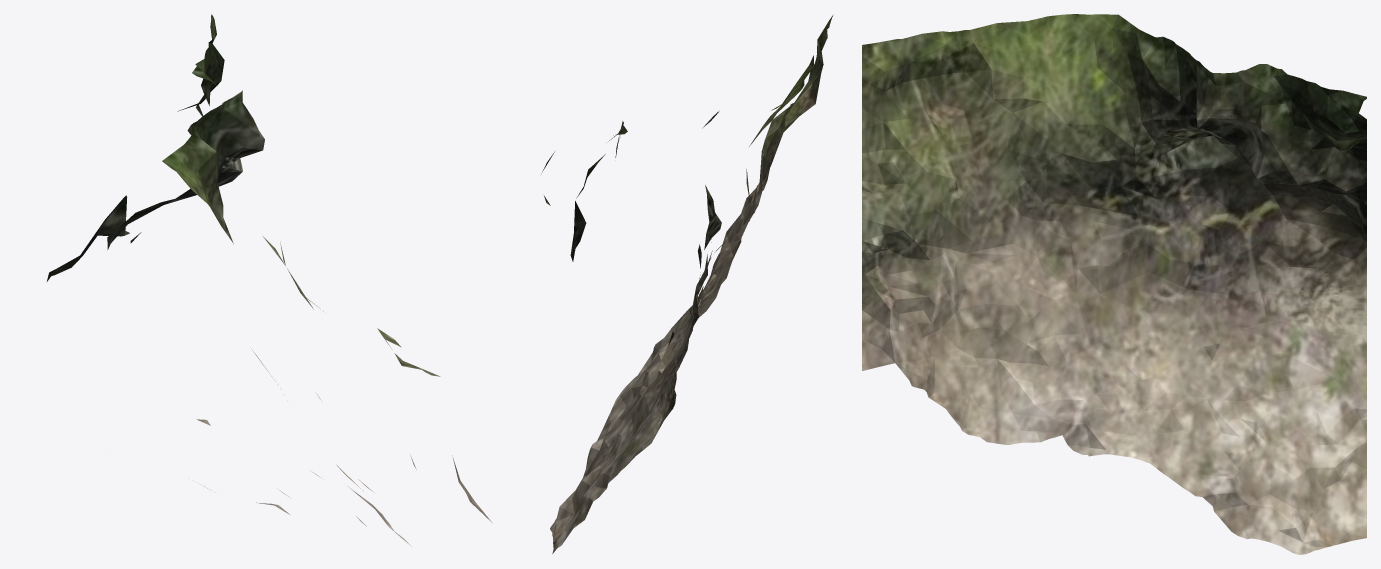
3 renders of one model, left to right at view 1: azimuth 30°, elevation 25°; view 2: azimuth 150°, elevation 25°; view 3: azimuth 270°, elevation 25°, orthographic. The views are drawn at different scales.
Size of the model in its own units: 1.2 by 2.95 by 2.95.
Materials: 2 (2 with a texture image).
